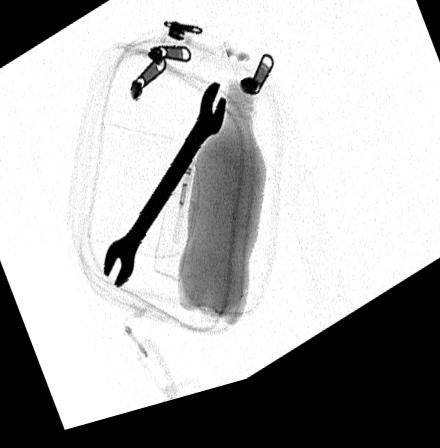Wrench: (101, 92, 226, 295)
